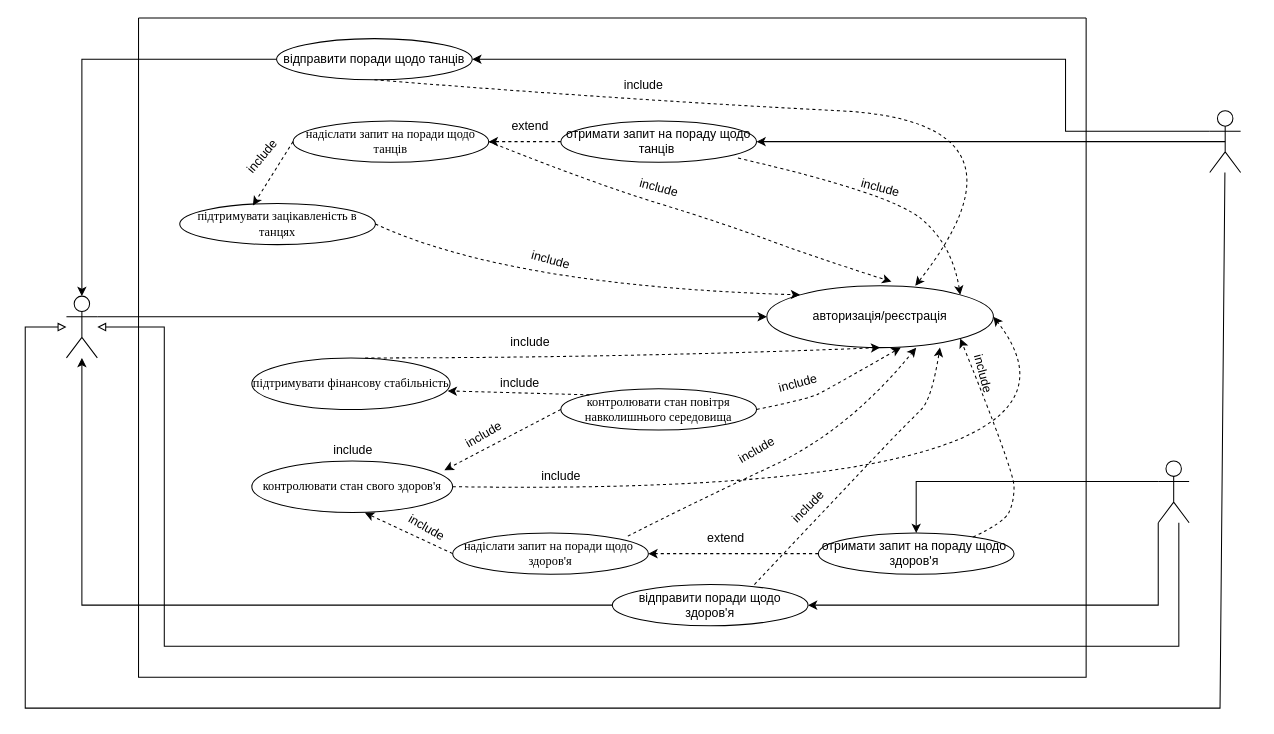
Some shapes in this 1274 by 734 pixel diagram are drawn without their labels. The centre of each missing label's shape, as x and y in pixels:
Користувач: the point at 81,326
медичний консультант: the point at 1173,491
хореограф: the point at 1225,141
